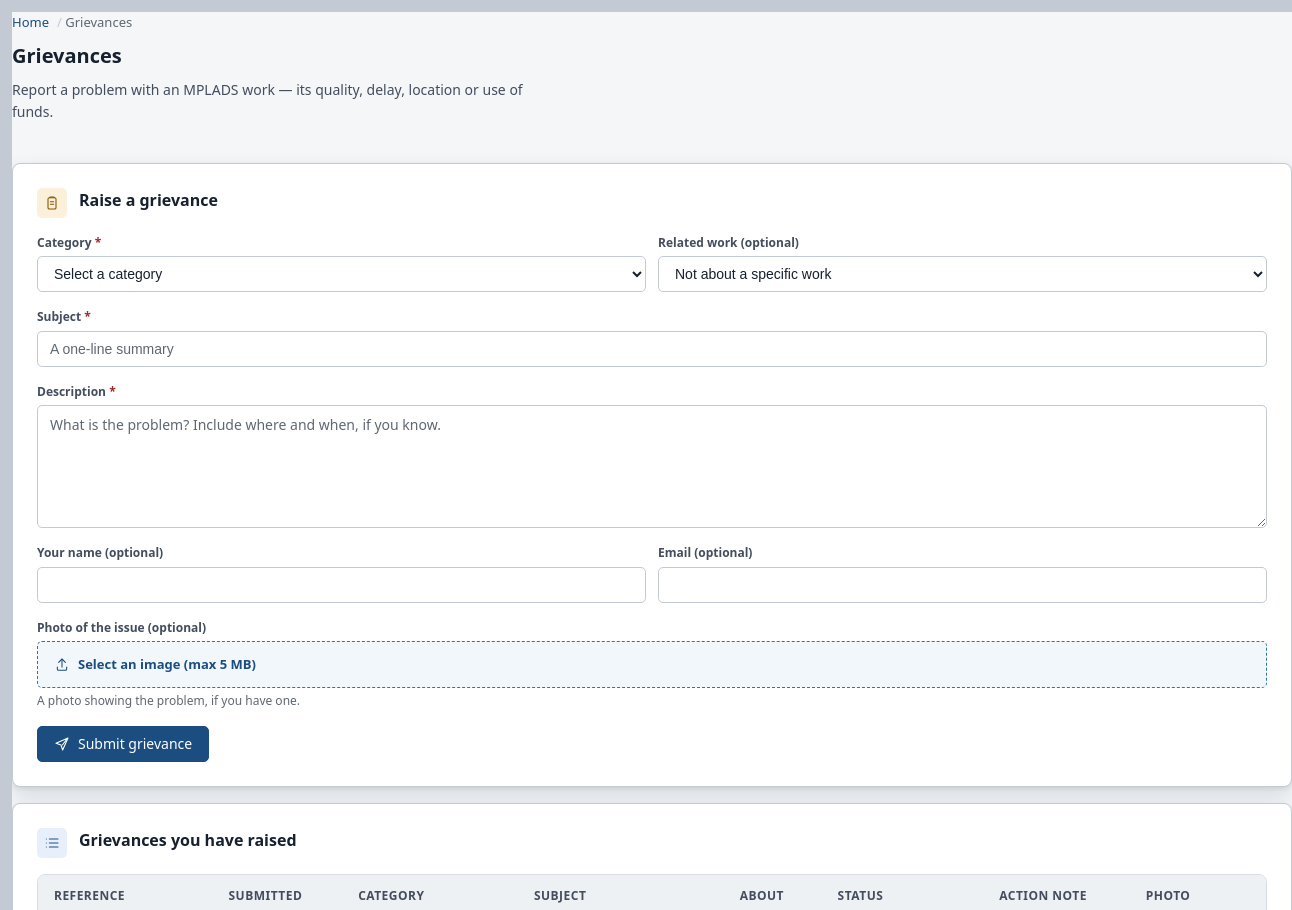
Test case: Grievances — citizen view › rejects an invalid email
Expected: the button "Submit grievance" is shown, [37,726,209,762]
Select "Other" in the dropdown labelled "Category *": (342, 274) [37,256,646,292]
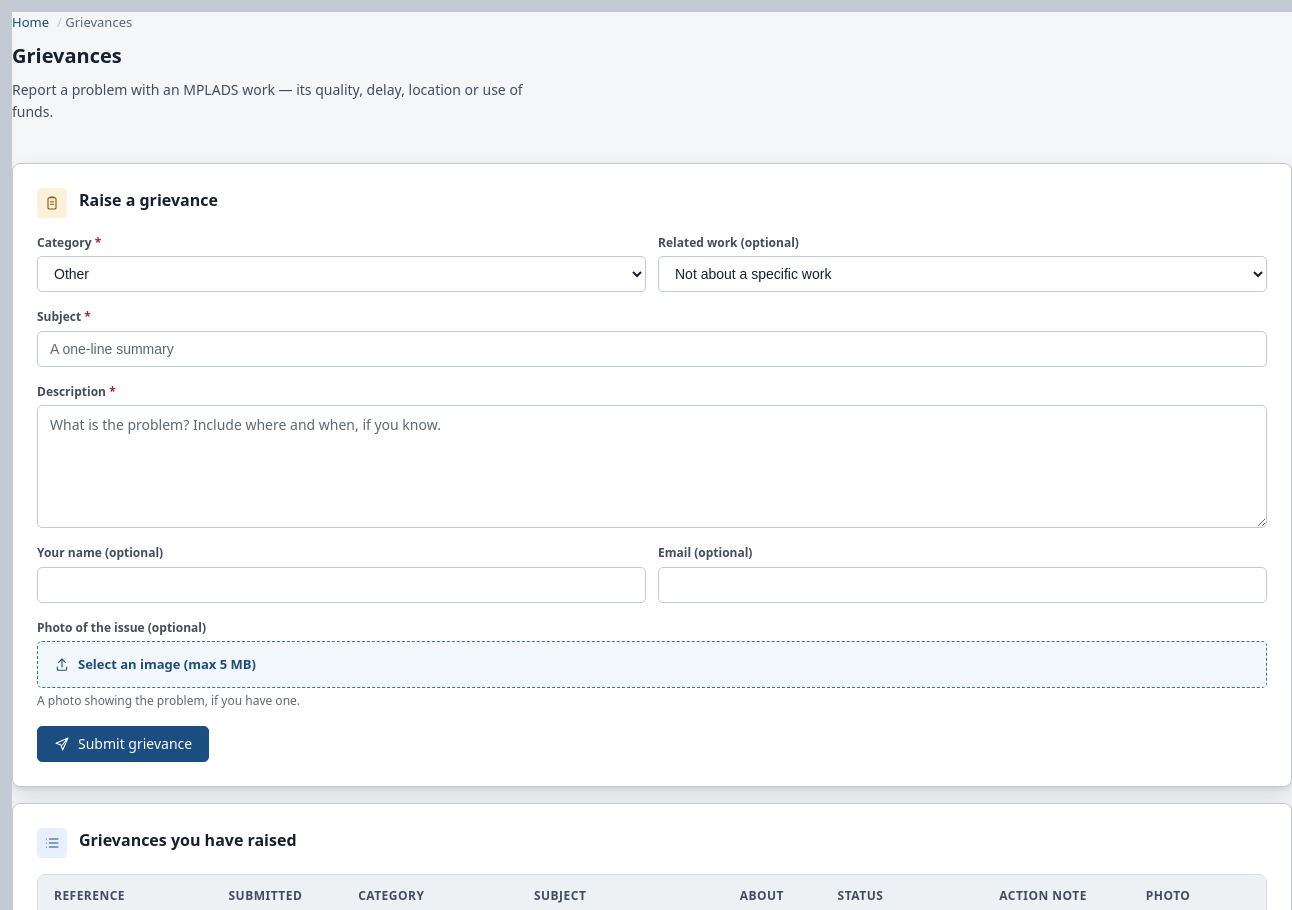
In the field labelled "Subject *": (652, 349) [37,331,1267,367], type "Something"
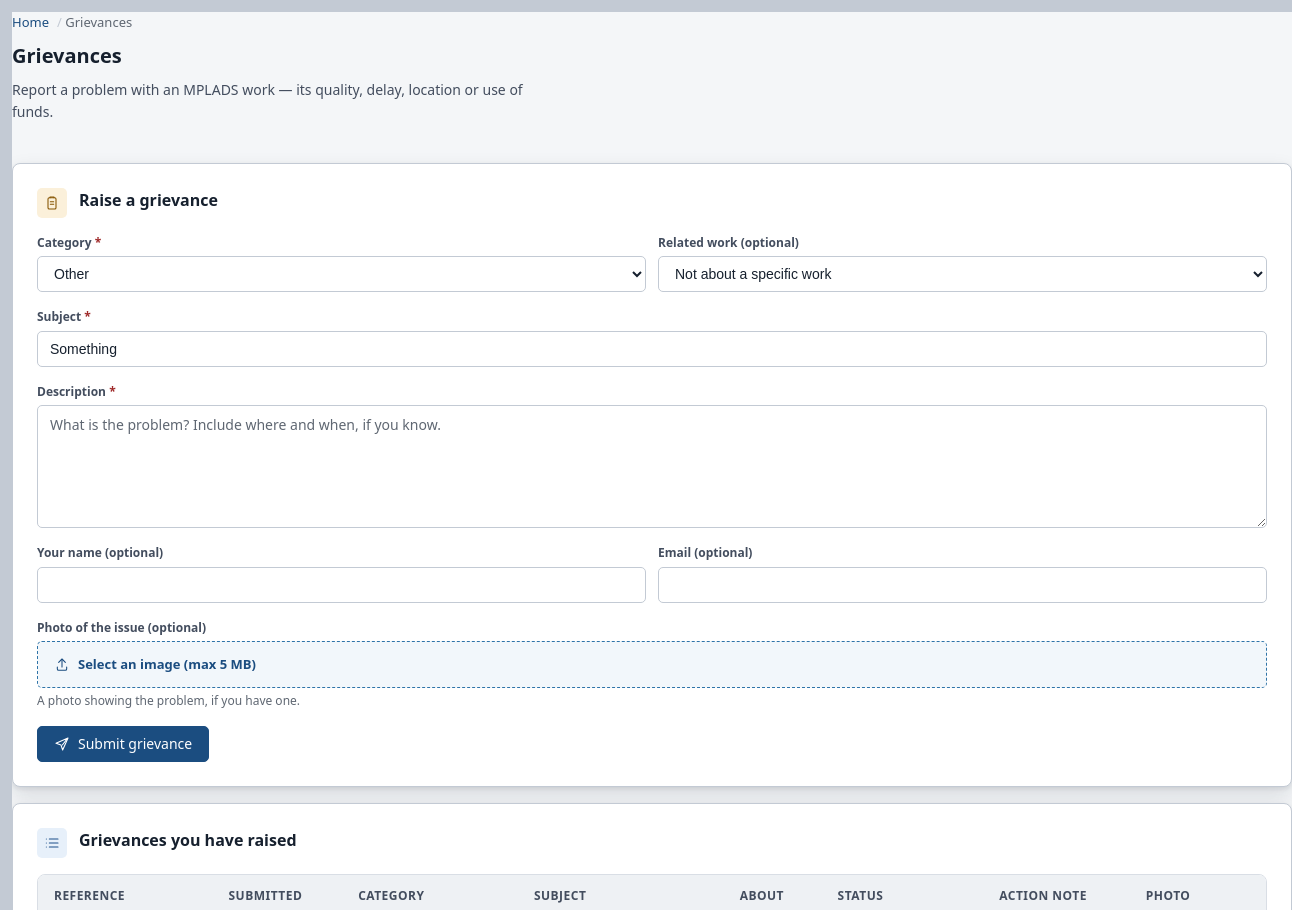
In the text box labelled "Description *": (652, 467) [37,405,1267,528], type "A description long enough to pass the minimum length check here."
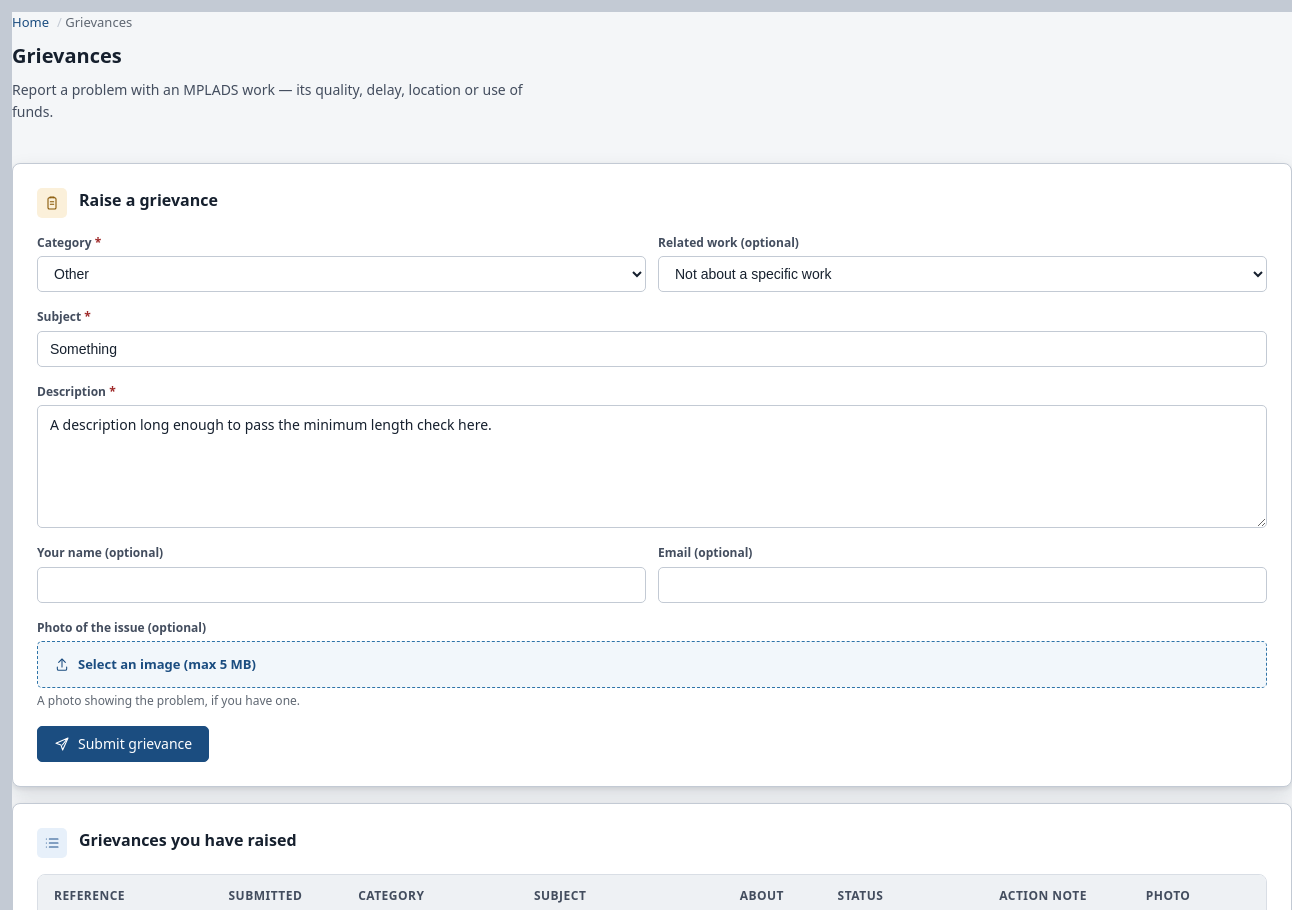
In the field labelled "Email (optional)": (962, 585) [658,567,1267,603], type "not-an-email"
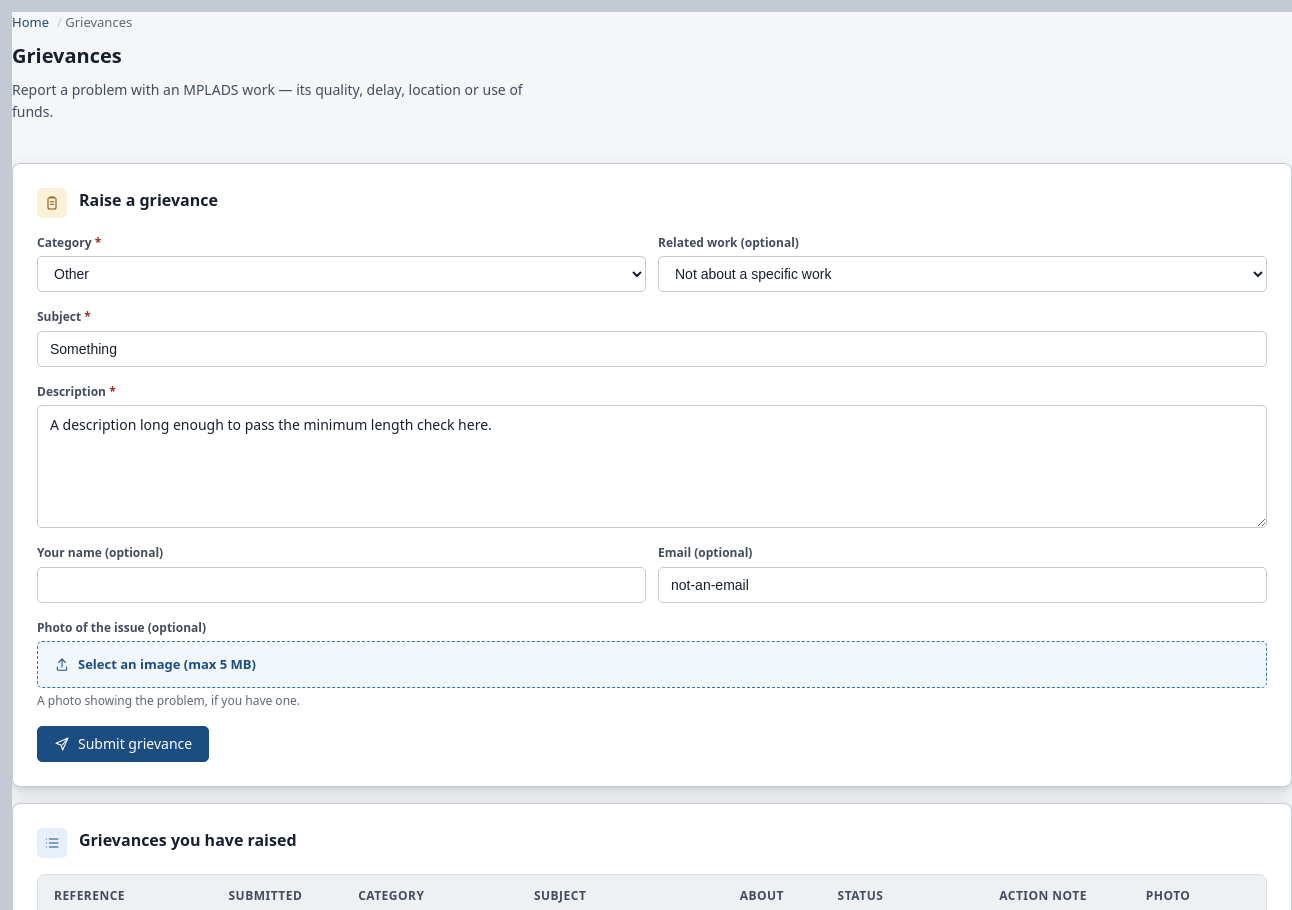
Click the button "Submit grievance": click(123, 744) [37,726,209,762]
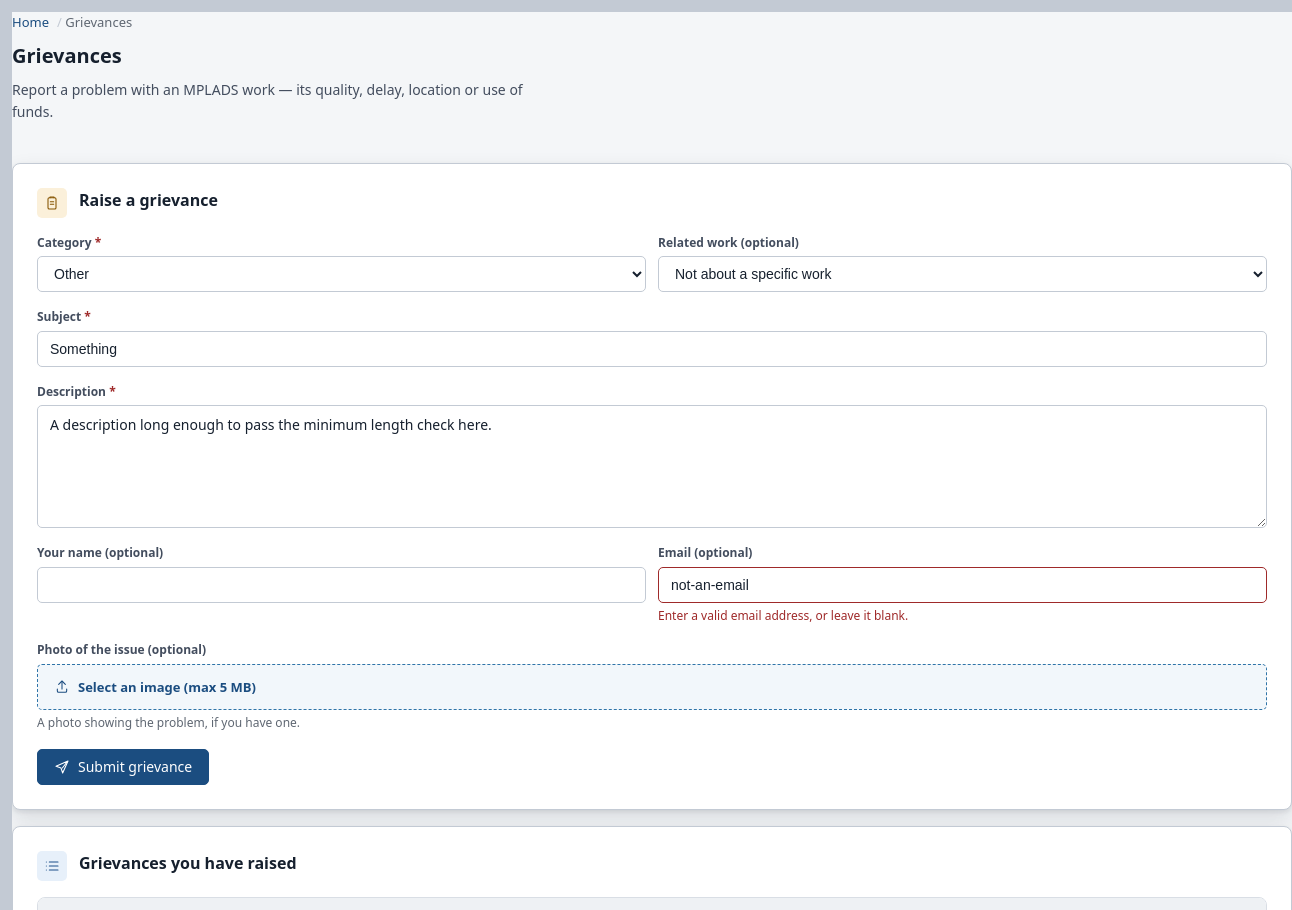
Now the text "Enter a valid email address, or leave it blank." is shown, box [658,607,908,624]
